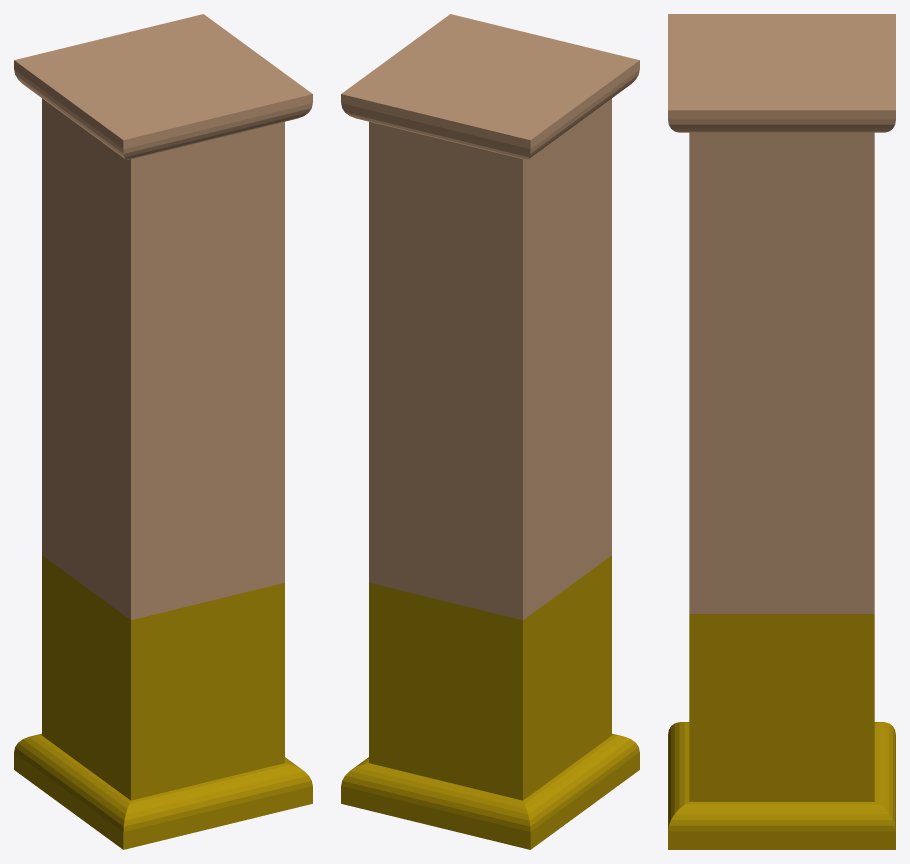
File: Colomn.dae
3 renders of one model, left to right at view 1: azimuth 30°, elevation 25°; view 2: azimuth 150°, elevation 25°; view 3: azimuth 270°, elevation 25°, orthographic. The views are drawn at different scales.
Parts seen in each view (by area): view 1: Cube; view 2: Cube; view 3: Cube.
Boxes of the visible parts, left/top/right/bottom form: Cube: left=14, top=14, right=312, bottom=849; Cube: left=341, top=14, right=639, bottom=849; Cube: left=668, top=14, right=895, bottom=849.
Size of the model in its own units: 1.3 by 1.3 by 4.64.
1 material, 1 textured.
